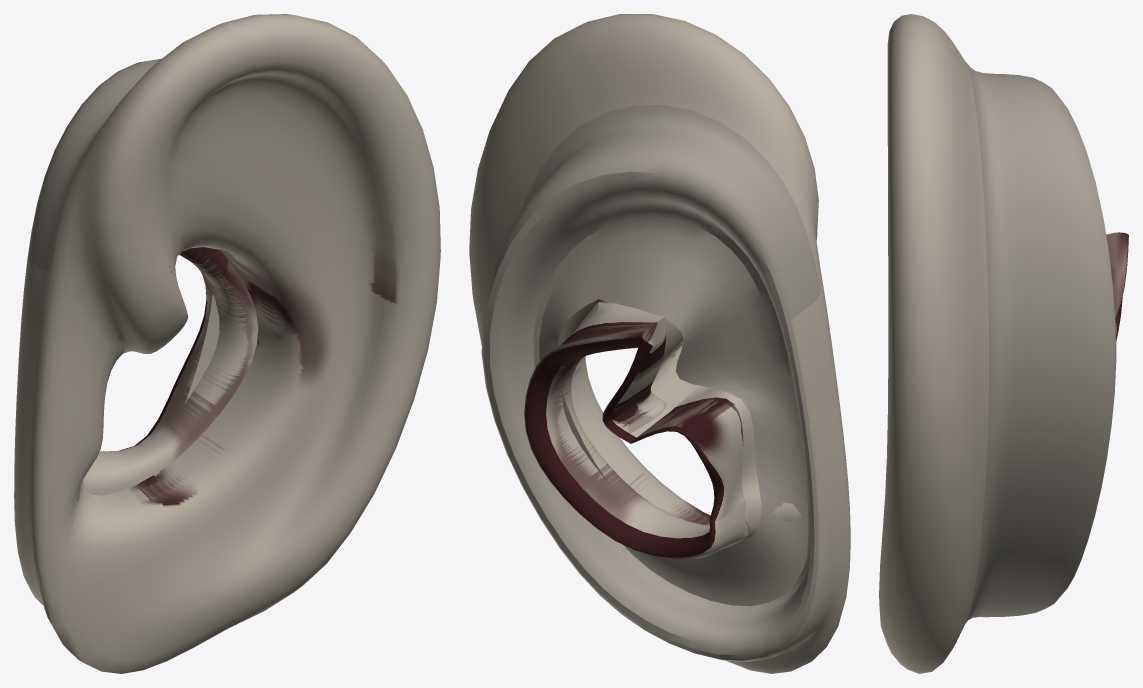
Rendered from ear.fbx.
3 views of the same model, side by side, from view 1: azimuth 30°, elevation 25°; view 2: azimuth 150°, elevation 25°; view 3: azimuth 270°, elevation 25° (orthographic). The views are drawn at different scales.
Visible parts, largest first — view 1: Plane; view 2: Plane; view 3: Plane.
Part boxes in pixels (bbox=[...]): Plane: bbox=[14, 14, 440, 673]; Plane: bbox=[469, 14, 850, 673]; Plane: bbox=[879, 14, 1128, 673].
Size of the model in its own units: 254 by 390 by 132.
1 material, 1 textured.
